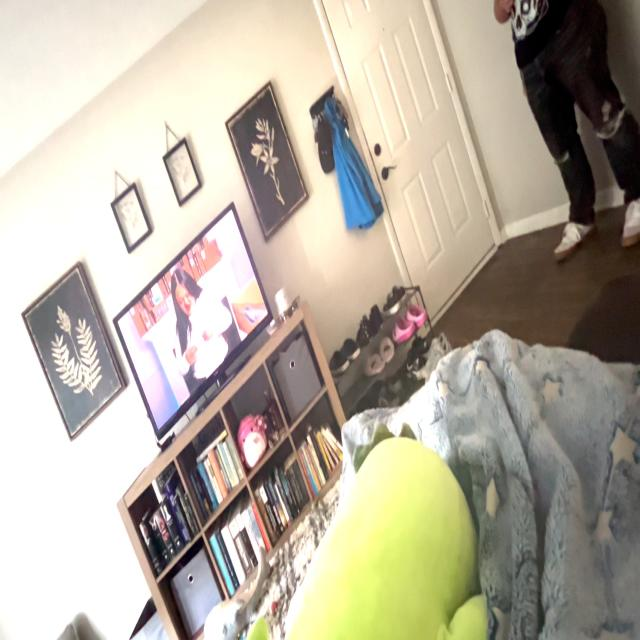drone: (264, 286, 316, 336)
